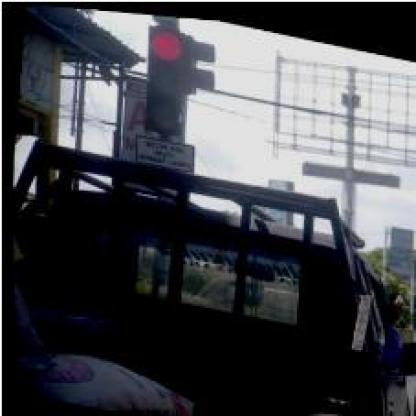red: (132, 15, 191, 132)
